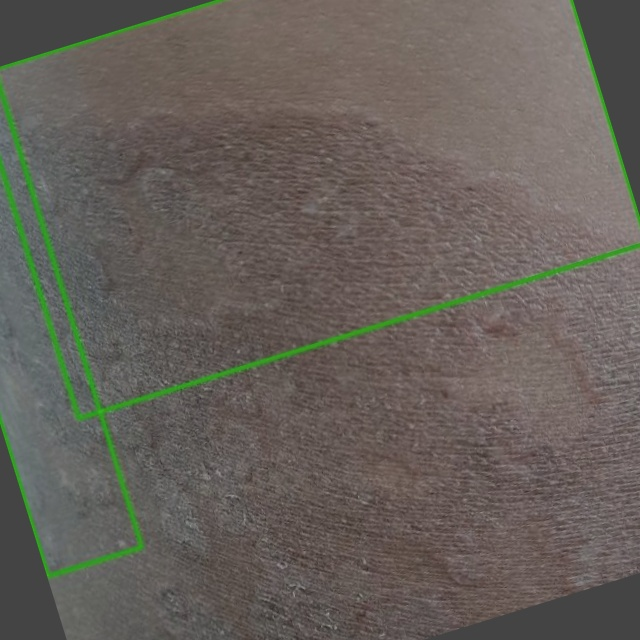Tinea Corporis: (0, 0, 639, 418), (0, 88, 142, 576)
